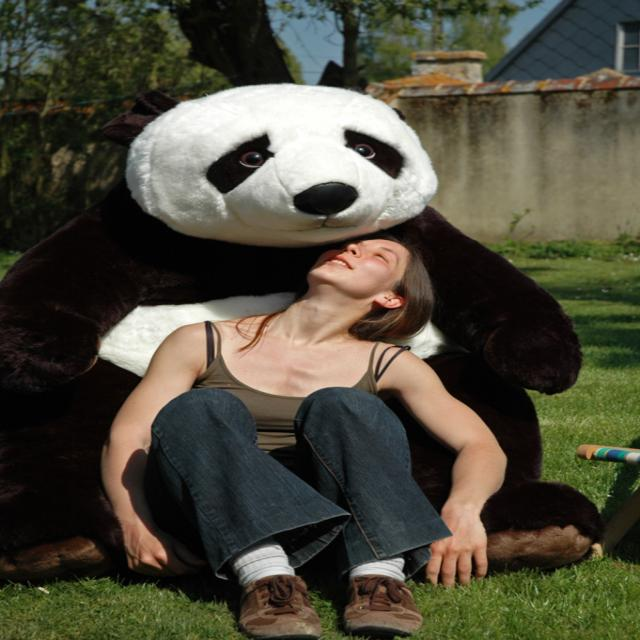panda: (0, 53, 595, 591)
